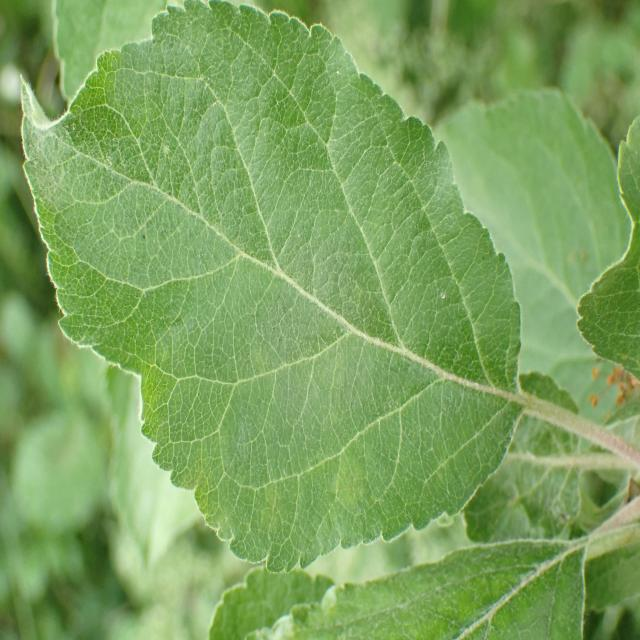scab: (79, 35, 520, 502)
